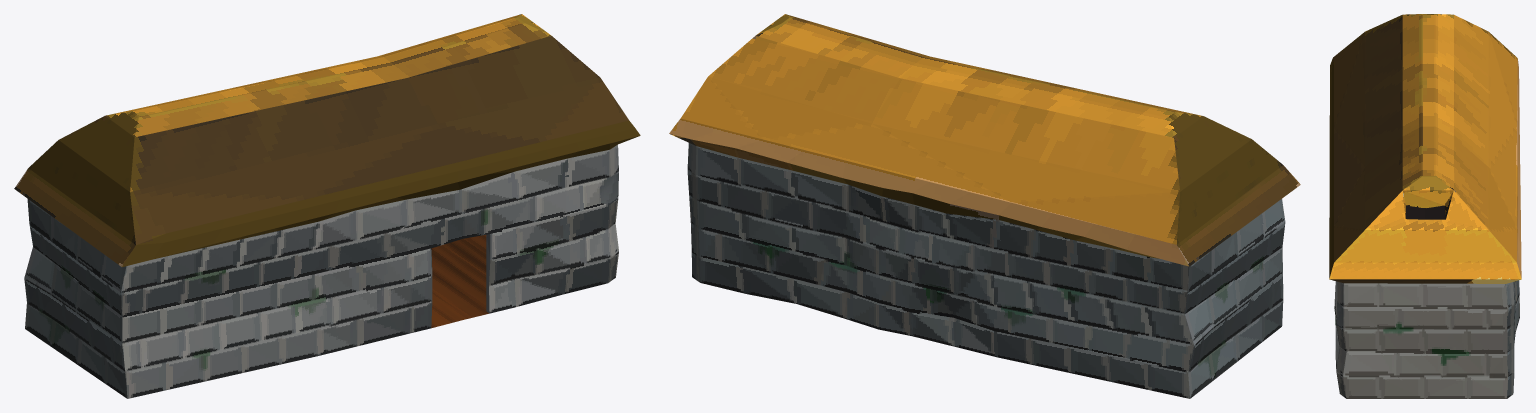
File: house5.glb
3 views of the same model, side by side, from view 1: azimuth 30°, elevation 25°; view 2: azimuth 150°, elevation 25°; view 3: azimuth 270°, elevation 25° (orthographic). The views are drawn at different scales.
Parts seen in each view (by area): view 1: house5; view 2: house5; view 3: house5.
Part boxes in pixels (x1=…): house5: x1=14, y1=14, x2=640, y2=398; house5: x1=669, y1=14, x2=1300, y2=398; house5: x1=1329, y1=14, x2=1521, y2=398.
Bounding box in the file's own units: 17.59 × 7.72 × 6.54.
Materials: 7 (5 with a texture image).
